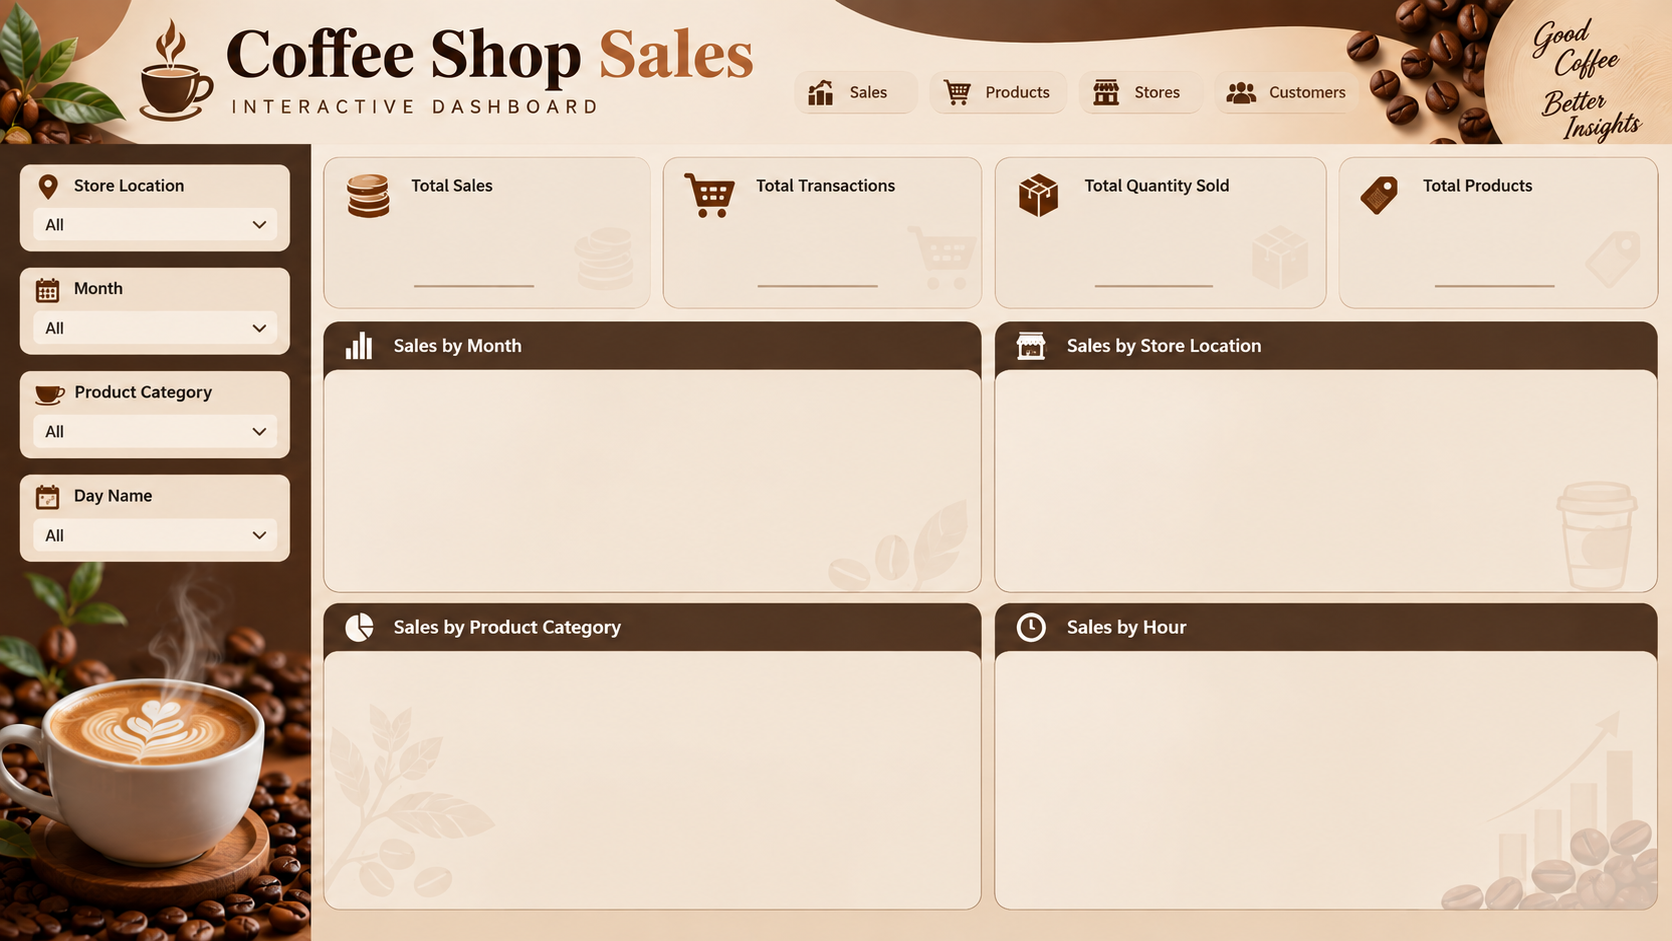

What the dashboard file says about the page in this screenshot:
{"tool":"powerbi","page":{"name":"Page 1","canvas":[1920,1080],"ordinal":0},"visuals":[{"type":"slicer","fields":{"Values":["Transactions.store_location"]},"box":[39.1,232.6,279.9,43.2],"z":0},{"type":"slicer","fields":{"Values":["Transactions.Month Name"]},"box":[39.1,349.9,279.9,39.1],"z":1000},{"type":"slicer","fields":{"Values":["Transactions.product_category"]},"box":[39.1,465.2,279.9,51.5],"z":2000},{"type":"slicer","fields":{"Values":["Transactions.Day Name"]},"box":[39.1,584.6,279.9,43.2],"z":3000},{"type":"cardVisual","fields":{"Data":["Transactions.total sales"]},"box":[454.9,275.8,191.4,43.2],"z":4000},{"type":"cardVisual","fields":{"Data":["Transactions.Total Transaction"]},"box":[868.6,275.8,137.9,43.2],"z":5000},{"type":"cardVisual","fields":{"Data":["Transactions.Total quantity sold"]},"box":[1245.3,275.8,156.4,43.2],"z":6000},{"type":"cardVisual","fields":{"Data":["Transactions.Total Product"]},"box":[1652.8,275.8,131.7,43.2],"z":7000},{"type":"lineChart","fields":{"Category":["Transactions.Month Name"],"Y":["Transactions.total sales"]},"box":[384.9,426.1,728.6,242.9],"z":8000},{"type":"clusteredColumnChart","fields":{"Category":["Transactions.store_location"],"Y":["Transactions.total sales"]},"box":[1146,425.5,750.5,243.7],"z":8001},{"type":"pieChart","fields":{"Category":["Transactions.product_category"],"Y":["Transactions.total sales"]},"box":[384,746,728,288],"z":8002},{"type":"lineChart","fields":{"Category":["Transactions.Hour"],"Y":["Transactions.total sales"]},"box":[1145.5,745.6,751,287.7],"z":8003},{"type":"actionButton","title":"Sales","box":[976,92,54,28],"z":8004},{"type":"actionButton","title":"Sales","box":[976,92,64,28],"z":8005},{"type":"actionButton","title":"Products","box":[1126,92,84,28],"z":8006},{"type":"actionButton","title":"Stores","box":[1298,92,80,22],"z":8007},{"type":"actionButton","title":"Customers","box":[1448,90,108,28],"z":8008}]}

Visuals, with their boxes in screenshot pixels (x1, y1, x2, y2), scaled from the page's 1920x1080 canvas onto the 1672x941 screenshot:
slicer - Transactions.store_location: x1=34, y1=203, x2=278, y2=240
slicer - Transactions.Month Name: x1=34, y1=305, x2=278, y2=339
slicer - Transactions.product_category: x1=34, y1=405, x2=278, y2=450
slicer - Transactions.Day Name: x1=34, y1=509, x2=278, y2=547
cardVisual - Transactions.total sales: x1=396, y1=240, x2=563, y2=278
cardVisual - Transactions.Total Transaction: x1=756, y1=240, x2=876, y2=278
cardVisual - Transactions.Total quantity sold: x1=1084, y1=240, x2=1221, y2=278
cardVisual - Transactions.Total Product: x1=1439, y1=240, x2=1554, y2=278
lineChart - Transactions.Month Name x Transactions.total sales: x1=335, y1=371, x2=970, y2=583
clusteredColumnChart - Transactions.store_location x Transactions.total sales: x1=998, y1=371, x2=1652, y2=583
pieChart - Transactions.product_category x Transactions.total sales: x1=334, y1=650, x2=968, y2=901
lineChart - Transactions.Hour x Transactions.total sales: x1=998, y1=650, x2=1652, y2=900
"Sales" actionButton: x1=850, y1=80, x2=897, y2=105
"Sales" actionButton: x1=850, y1=80, x2=906, y2=105
"Products" actionButton: x1=981, y1=80, x2=1054, y2=105
"Stores" actionButton: x1=1130, y1=80, x2=1200, y2=99
"Customers" actionButton: x1=1261, y1=78, x2=1355, y2=103
